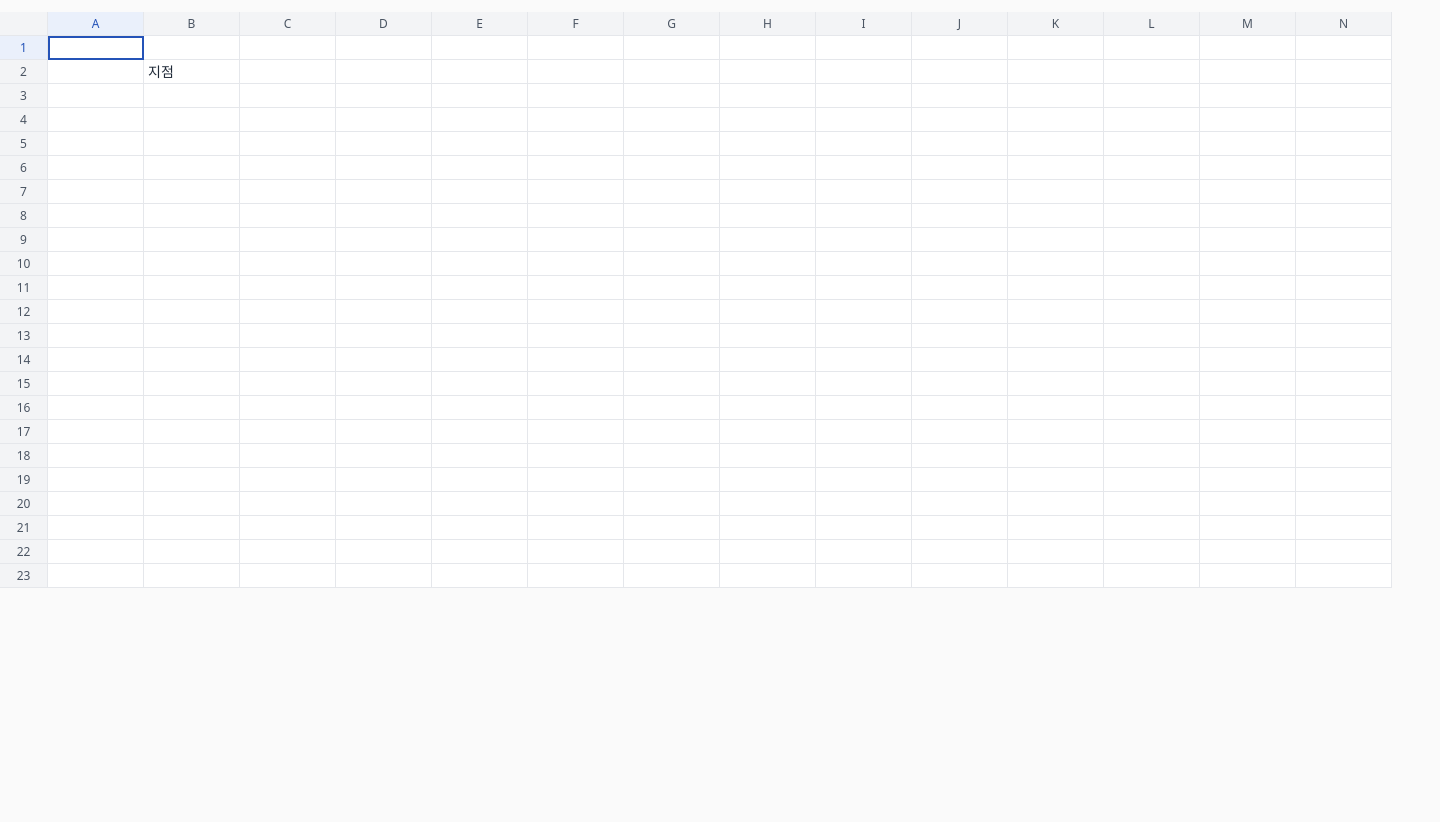
it: SpreadsheetGrid › 더블클릭하면 그 셀의 기존 내용을 편집한다
The image size is (1440, 822).
Step 1. Press the mouse on the cell "지점" → x=192, y=72, box [144,60,240,84]
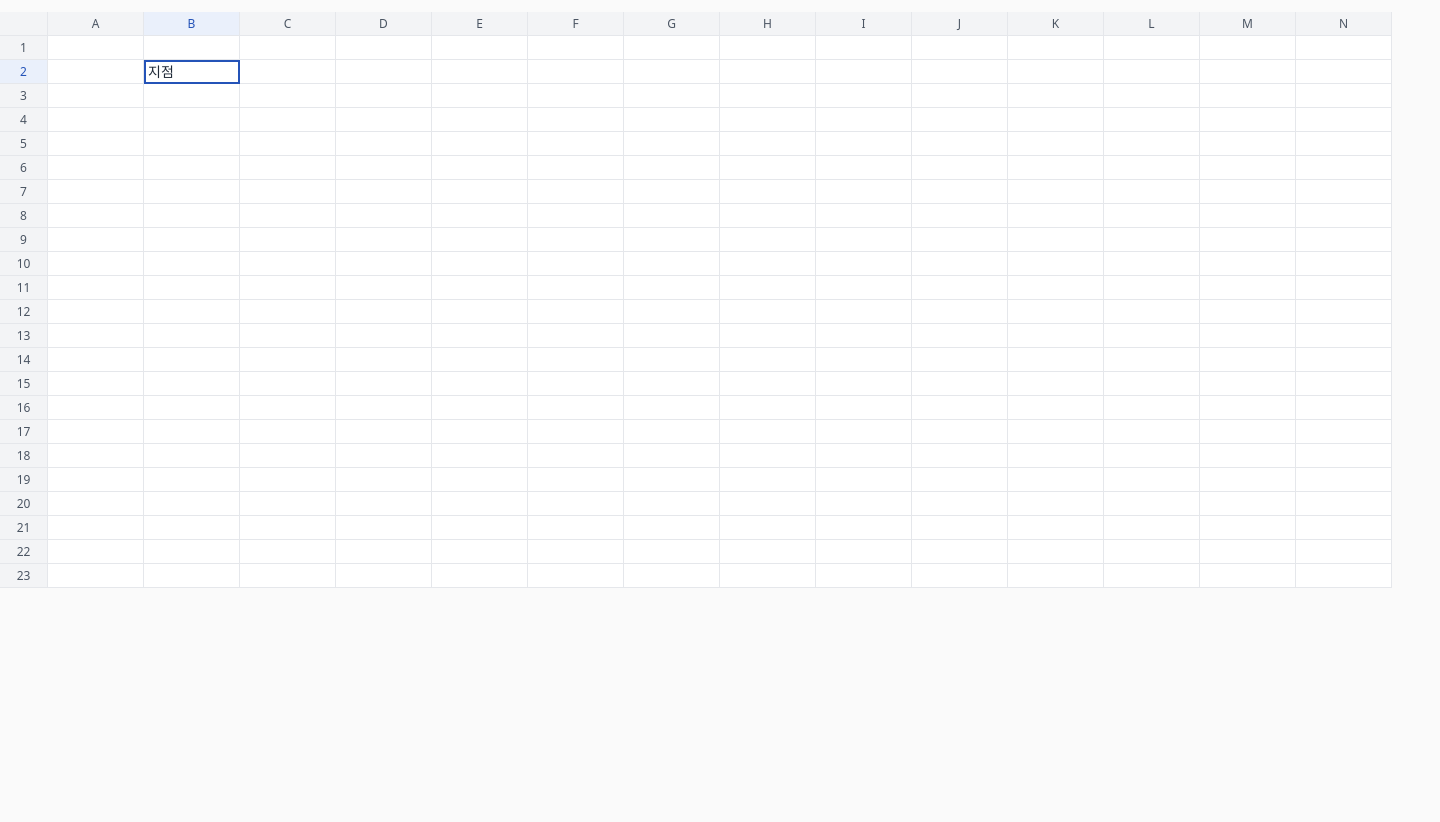
Step 2. Double-click the cell "지점" → x=192, y=72, box [144,60,240,84]
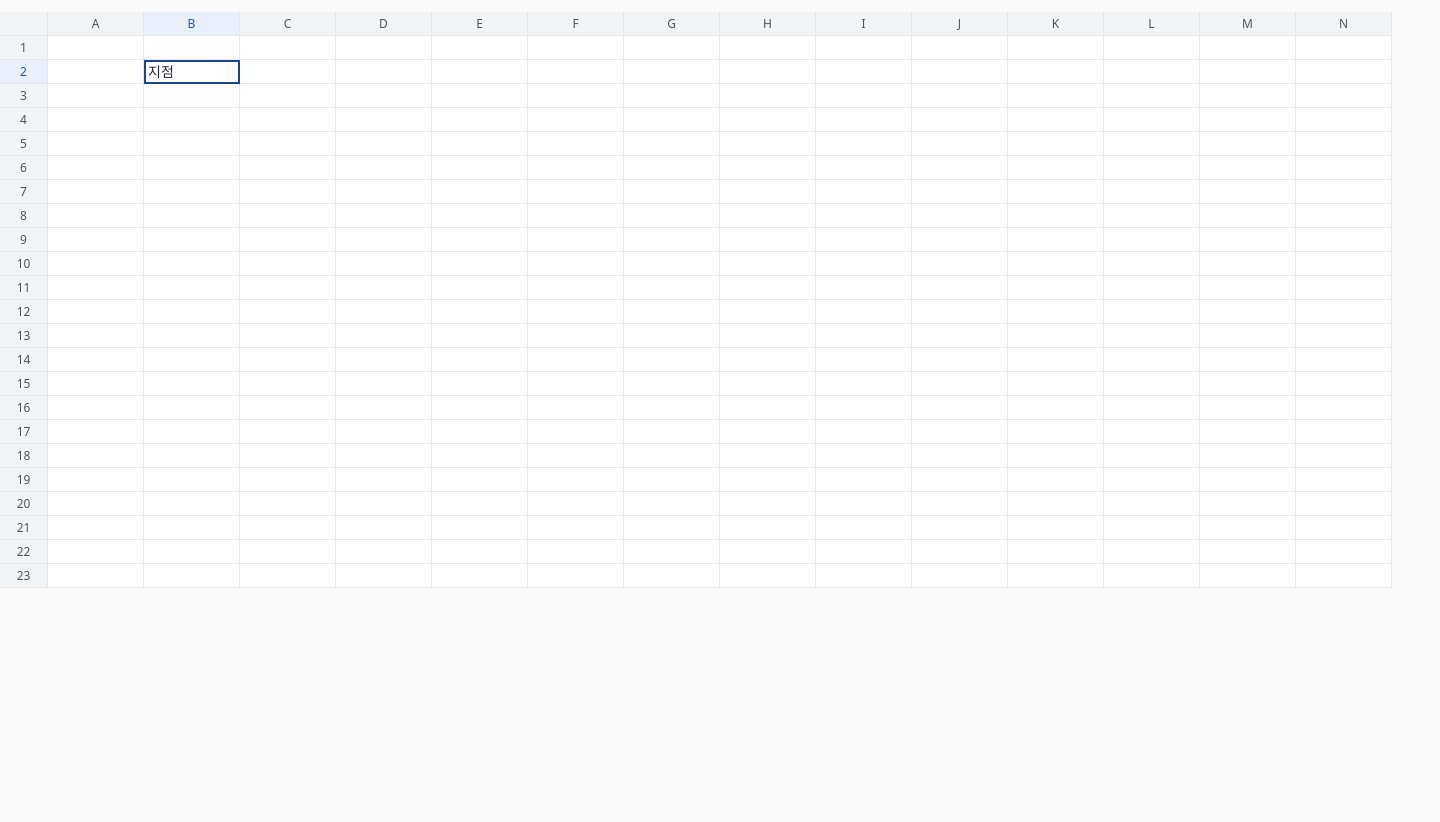
Check: the field holds "지점", box [144,60,240,84]
